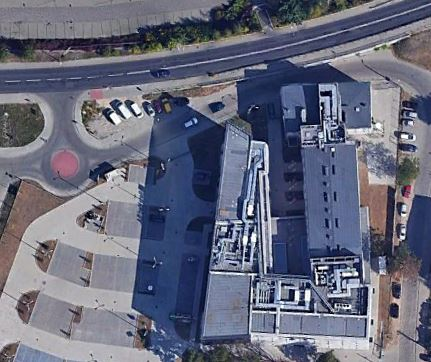shopping_center: (194, 74, 383, 353)
